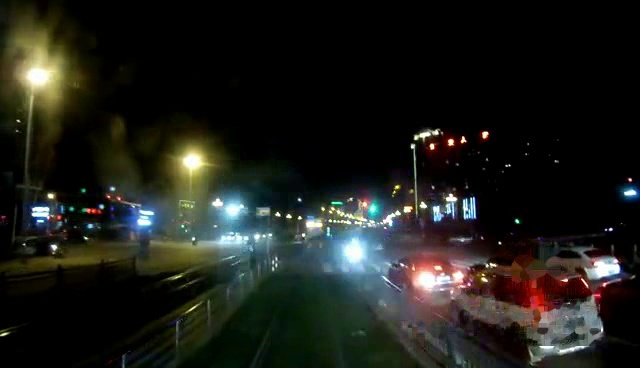car: (467, 267, 608, 355), (390, 254, 467, 293)
